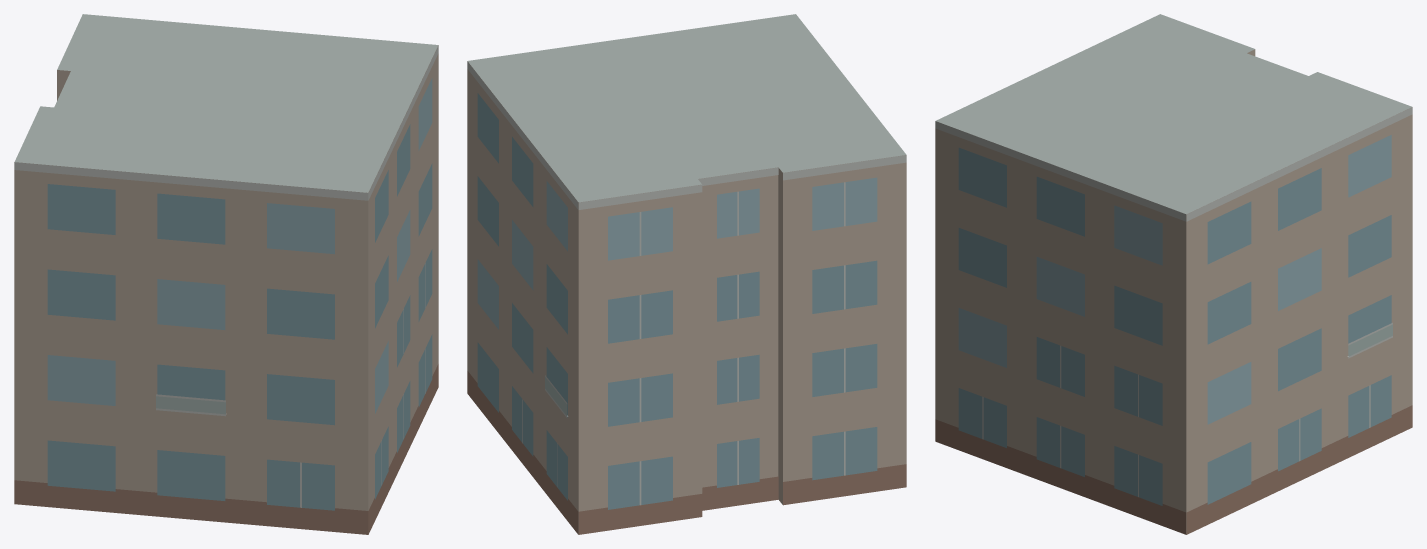
File: survey-upis-32777516.glb
3 renders of one model, left to right at view 1: azimuth 30°, elevation 25°; view 2: azimuth 150°, elevation 25°; view 3: azimuth 270°, elevation 25°, orthographic. The views are drawn at different scales.
Parts seen in each view (by area): view 1: survey-upis-32777516.tmp; view 2: survey-upis-32777516.tmp; view 3: survey-upis-32777516.tmp.
Part boxes in pixels (<box>): survey-upis-32777516.tmp: <box>14,14,438,534</box>; survey-upis-32777516.tmp: <box>467,14,906,534</box>; survey-upis-32777516.tmp: <box>935,14,1412,534</box>.
Bounding box in the file's own units: 14.11 × 10.52 × 14.21.
